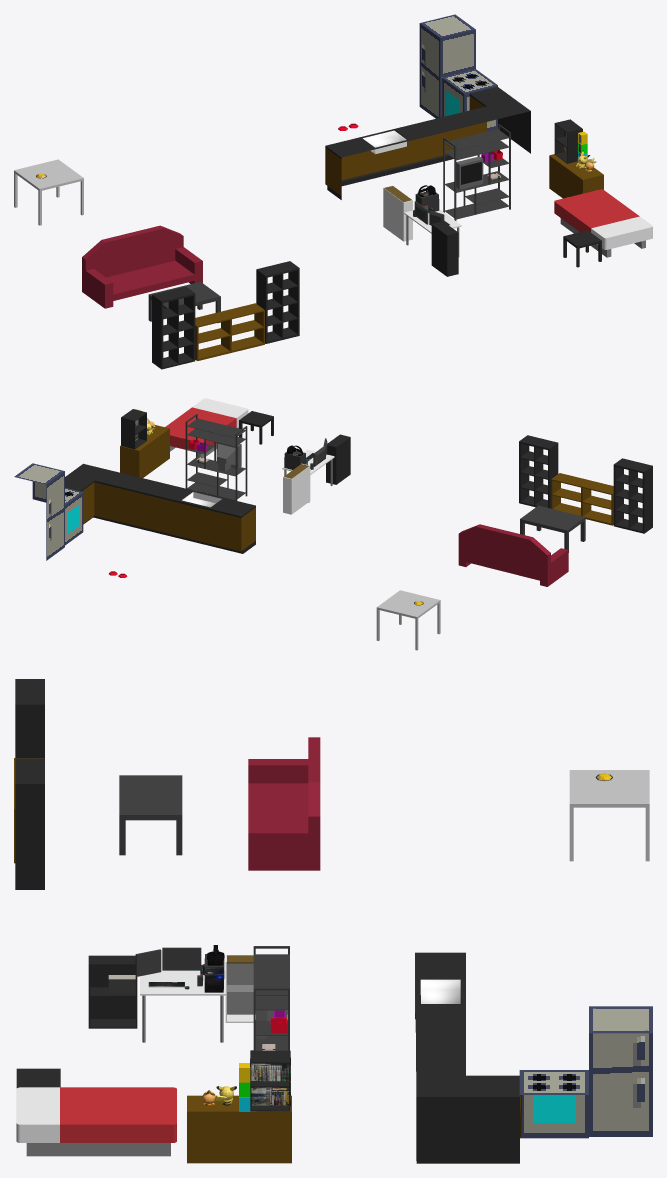
Rendered from furniture.dae.
3 renders of one model, top to bottom at view 1: azimuth 30°, elevation 25°; view 2: azimuth 150°, elevation 25°; view 3: azimuth 270°, elevation 25°, orthographic. The views are drawn at different scales.
Visible parts, largest first — view 1: Plane_004, Cylinder_001, Cube_001_001, SketchUp_002_ID19_001, SketchUp_007_ID61, Cube_006_Cube_030, Cube_006_Cube_000, Cube_005_Cube_027, LACK_tableS_Cube_002_Cube_004, dresser_Cube_001, SketchUp_010_ID79, SketchUp_011_ID85 (+5 smaller); view 2: Plane_004, Cylinder_001, Cube_001_001, SketchUp_007_ID61, Cube_006_Cube_030, Cube_006_Cube_000, Cube_005_Cube_027, SketchUp_002_ID19_001, dresser_Cube_001, LACK_tableS_Cube_002_Cube_004, SketchUp_004_ID37, SketchUp_011_ID85 (+5 smaller); view 3: Plane_004, Cube_001_001, SketchUp_002_ID19_001, Cylinder_001, dresser_Cube_001, Cube_006_Cube_000, LACK_tableS_Cube_002_Cube_004, SketchUp_004_ID37, SketchUp_010_ID79, SketchUp_007_ID61, Cube_006_Cube_030, SketchUp_011_ID85 (+5 smaller).
Boxes of the visible parts, <box> form: Plane_004: <box>325,87,530,199</box>; Cylinder_001: <box>82,225,202,308</box>; Cube_001_001: <box>419,14,497,131</box>; SketchUp_002_ID19_001: <box>554,189,652,257</box>; SketchUp_007_ID61: <box>443,124,510,220</box>; Cube_006_Cube_030: <box>152,286,195,369</box>; Cube_006_Cube_000: <box>256,261,299,343</box>; Cube_005_Cube_027: <box>195,303,264,360</box>; LACK_tableS_Cube_002_Cube_004: <box>14,159,83,225</box>; dresser_Cube_001: <box>549,154,603,198</box>; SketchUp_010_ID79: <box>431,221,458,276</box>; SketchUp_011_ID85: <box>383,185,412,241</box>; Plane_004: <box>65,463,255,553</box>; Cylinder_001: <box>458,524,568,586</box>; Cube_001_001: <box>14,463,83,560</box>; SketchUp_007_ID61: <box>185,414,247,500</box>; Cube_006_Cube_030: <box>613,458,652,533</box>; Cube_006_Cube_000: <box>519,435,558,508</box>; Cube_005_Cube_027: <box>551,473,613,525</box>; SketchUp_002_ID19_001: <box>165,398,248,457</box>; dresser_Cube_001: <box>120,425,169,477</box>; LACK_tableS_Cube_002_Cube_004: <box>376,590,440,650</box>; SketchUp_004_ID37: <box>520,505,585,552</box>; SketchUp_011_ID85: <box>283,463,310,514</box>; Plane_004: <box>415,952,521,1163</box>; Cube_001_001: <box>519,1006,652,1138</box>; SketchUp_002_ID19_001: <box>16,1087,176,1156</box>; Cylinder_001: <box>248,737,320,870</box>; dresser_Cube_001: <box>187,1095,291,1163</box>; Cube_006_Cube_000: <box>15,758,44,889</box>; LACK_tableS_Cube_002_Cube_004: <box>569,770,649,861</box>; SketchUp_004_ID37: <box>119,775,182,855</box>; SketchUp_010_ID79: <box>88,955,137,1028</box>; SketchUp_007_ID61: <box>253,946,289,1050</box>; Cube_006_Cube_030: <box>15,679,44,758</box>; SketchUp_011_ID85: <box>225,955,287,1022</box>.
Size of the model in its own units: 11.21 by 7.99 by 1.8.
Materials: 36 (14 with a texture image).
